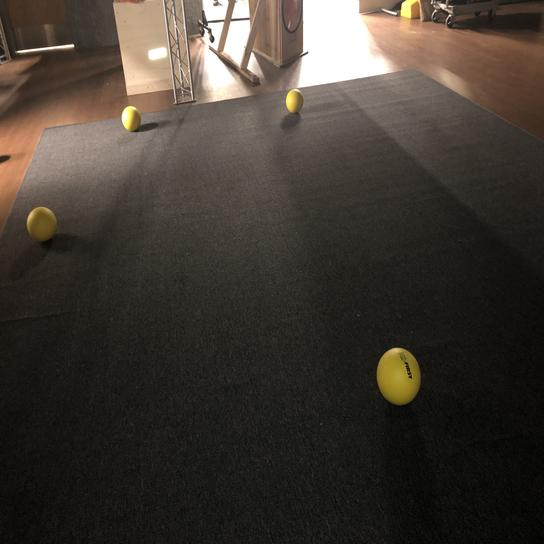ball: (374, 344, 425, 404), (22, 202, 60, 242), (119, 104, 144, 133), (282, 87, 305, 115)
